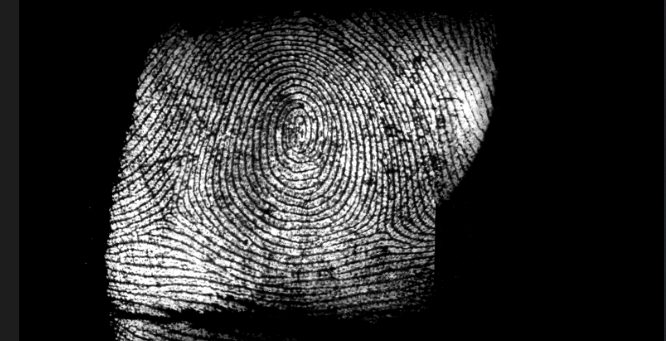deltas: (359, 194, 408, 248), (151, 176, 192, 235)
nucleo: (275, 99, 324, 156)
